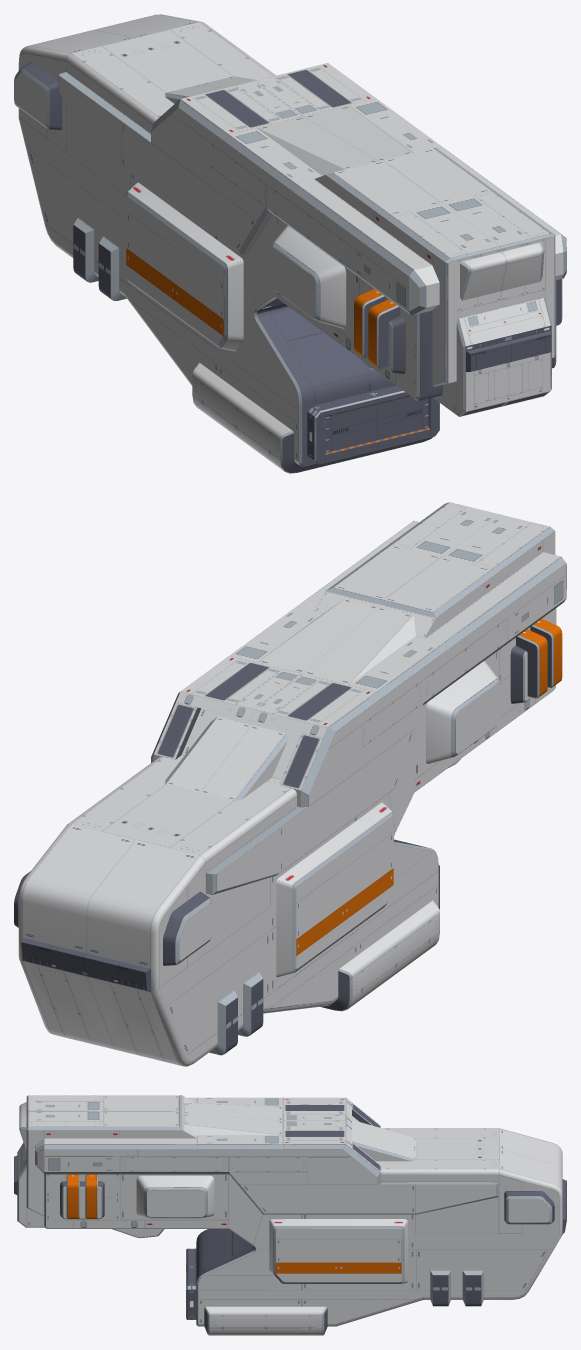
Rendered from Cruiser_Body_01.FBX.
3 renders of one model, top to bottom at view 1: azimuth 30°, elevation 25°; view 2: azimuth 150°, elevation 25°; view 3: azimuth 270°, elevation 25°, orthographic. The views are drawn at different scales.
Visible parts, largest first — view 1: Cruiser_Body_01, Hangar_Cache_01, Cockpit_Cache_01; view 2: Cruiser_Body_01, Cockpit_Cache_02; view 3: Cruiser_Body_01.
Boxes of the visible parts, bbox=[...] form: Cruiser_Body_01: bbox=[14, 14, 566, 473]; Hangar_Cache_01: bbox=[326, 396, 428, 452]; Cockpit_Cache_01: bbox=[477, 339, 545, 367]; Cruiser_Body_01: bbox=[14, 502, 566, 1066]; Cockpit_Cache_02: bbox=[49, 952, 118, 979]; Cruiser_Body_01: bbox=[14, 1095, 566, 1335].
Size of the model in its own units: 65.02 by 105 by 260.
